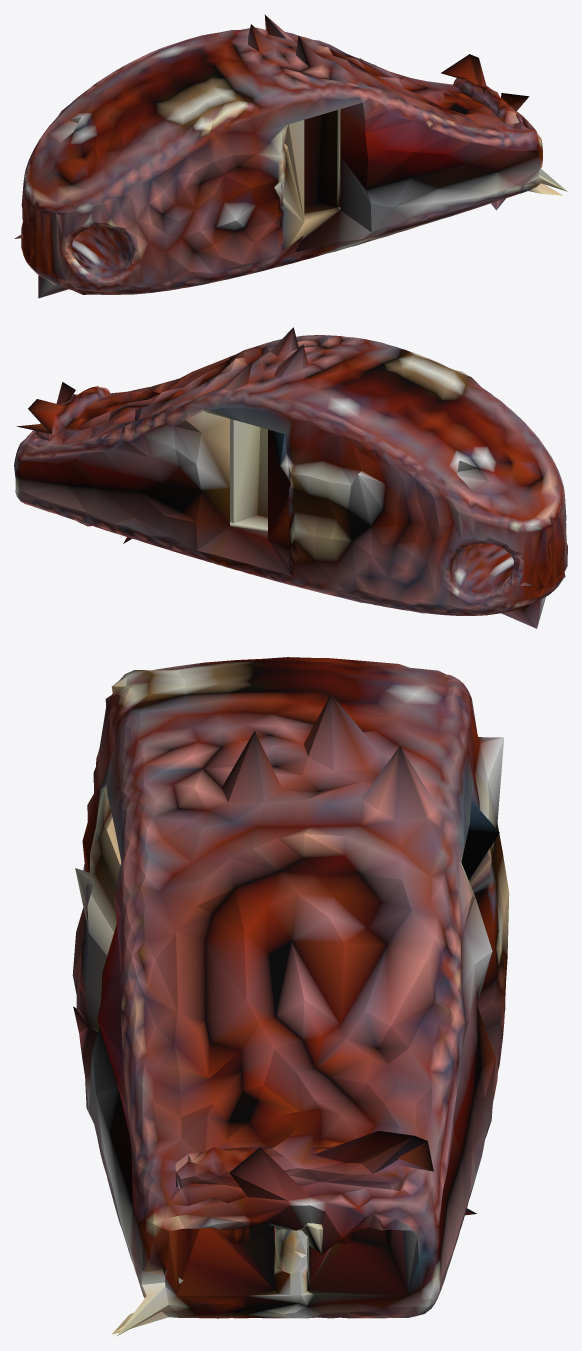
File: whistle_decemeted_final1500.obj
3 renders of one model, top to bottom at view 1: azimuth 30°, elevation 25°; view 2: azimuth 150°, elevation 25°; view 3: azimuth 270°, elevation 25°, orthographic. The views are drawn at different scales.
Size of the model in its own units: 1.92 by 0.8189 by 0.7399.
